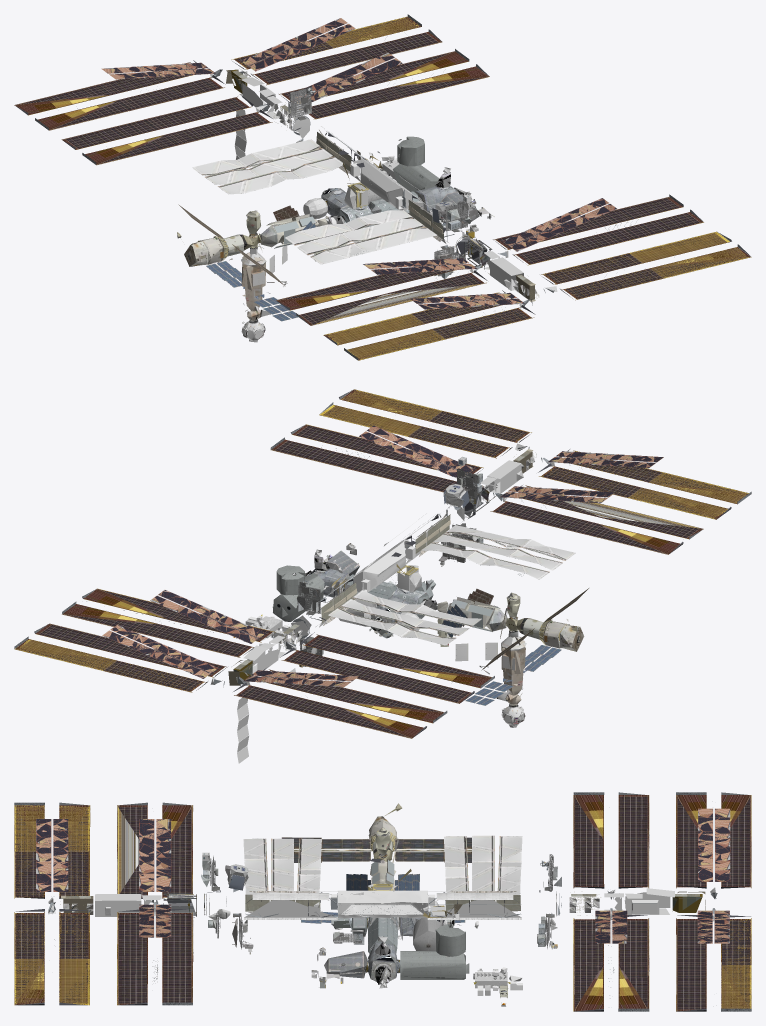
3 views of the same model, one above another, from view 1: azimuth 30°, elevation 25°; view 2: azimuth 150°, elevation 25°; view 3: azimuth 270°, elevation 25° (orthographic). The views are drawn at different scales.
Parts seen in each view (by area): view 1: IGOAL_SSREF; view 2: IGOAL_SSREF; view 3: IGOAL_SSREF.
Part boxes in pixels (box(x1,y1,x2,y2)): IGOAL_SSREF: box(14, 14, 751, 360); IGOAL_SSREF: box(14, 389, 751, 763); IGOAL_SSREF: box(14, 792, 751, 1011).
Size of the model in its own units: 73.27 by 30.25 by 108.
43 materials, 41 textured.
